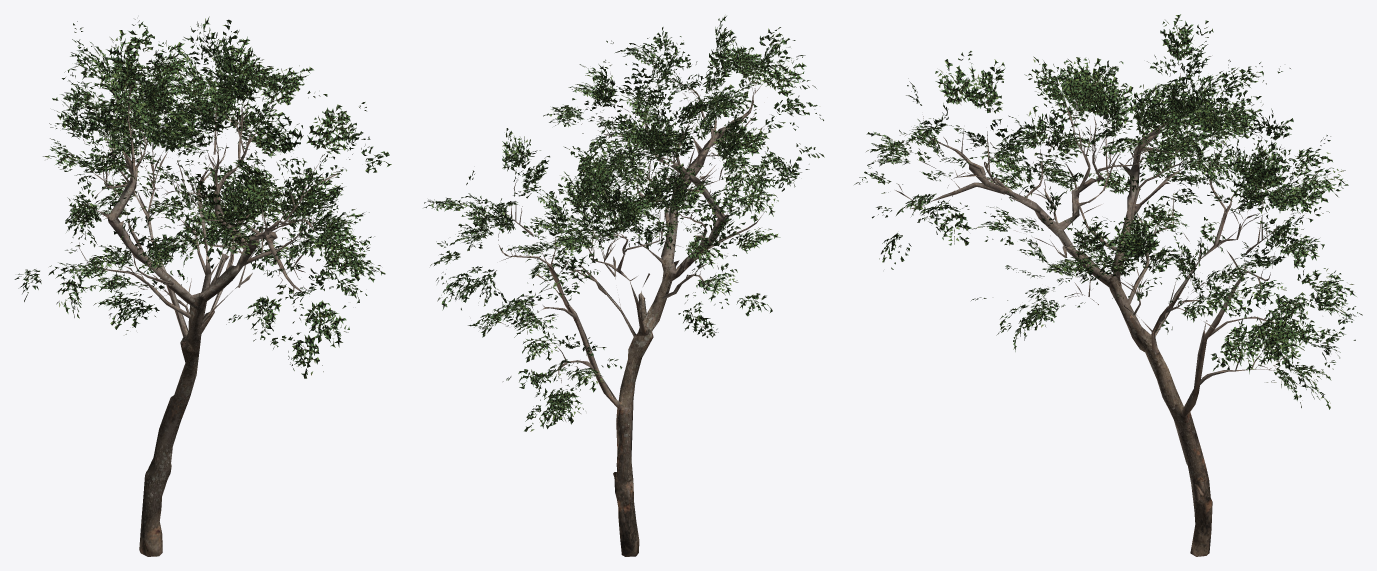
File: polyhaven-street-tree.glb
3 renders of one model, left to right at view 1: azimuth 30°, elevation 25°; view 2: azimuth 150°, elevation 25°; view 3: azimuth 270°, elevation 25°, orthographic. The views are drawn at different scales.
Parts seen in each view (by area): view 1: tree_small_02_LOD0; view 2: tree_small_02_LOD0; view 3: tree_small_02_LOD0.
Part boxes in pixels (bbox=[...]): tree_small_02_LOD0: bbox=[14, 16, 391, 556]; tree_small_02_LOD0: bbox=[424, 16, 824, 556]; tree_small_02_LOD0: bbox=[854, 14, 1362, 556].
Size of the model in its own units: 2.88 by 4.55 by 4.2.
Materials: 3 (3 with a texture image).
